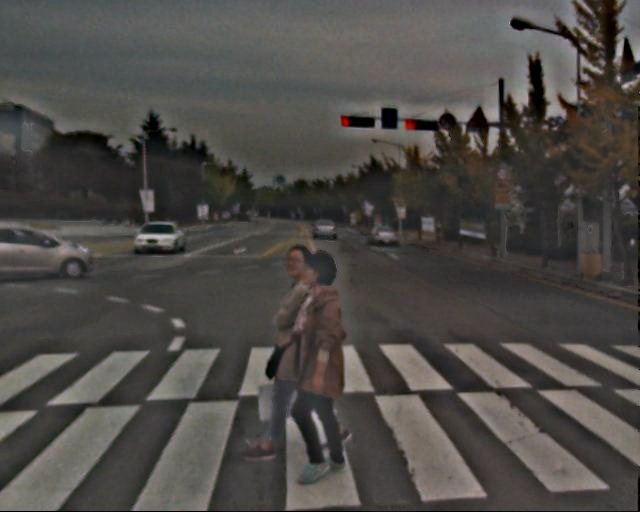person: (268, 253, 364, 480), (258, 237, 339, 454)
